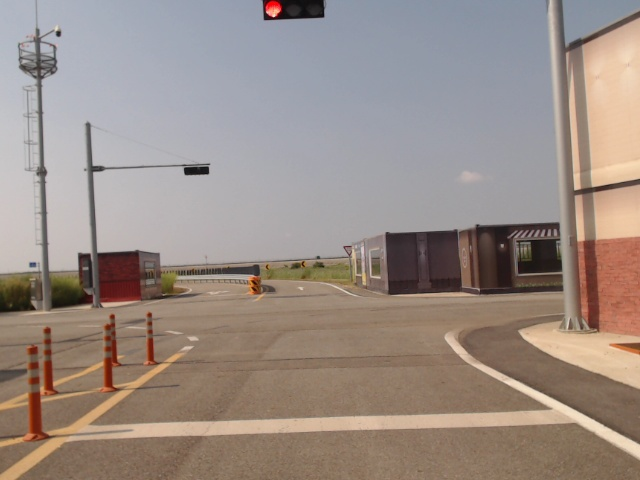red_3: (263, 0, 325, 20)
